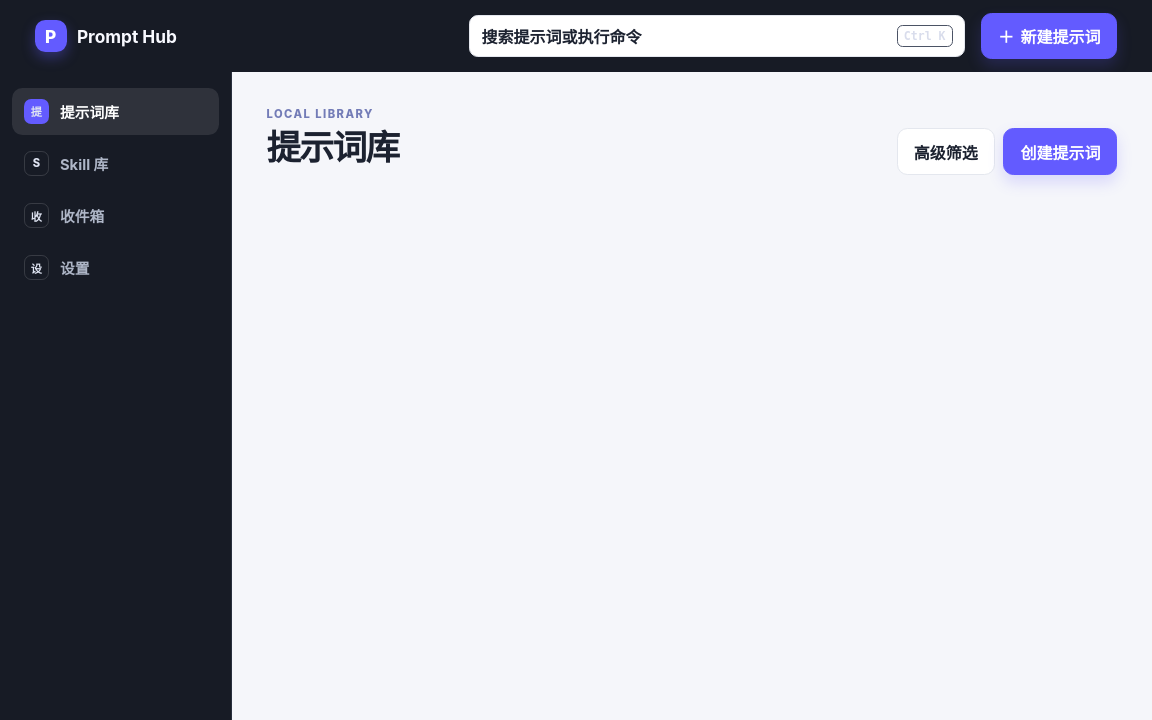
Test case: App › provides accessible primary navigation and a command palette
The width and height of the screenshot is (1152, 720).
Check: the link "P Prompt Hub" is shown, box [34,20,177,52]
Check: the navigation bar named "主导航" is shown, box [0,72,232,719]
Step 1. Click the button with aria-label "打开命令面板" → (562, 37), box [469,15,965,57]
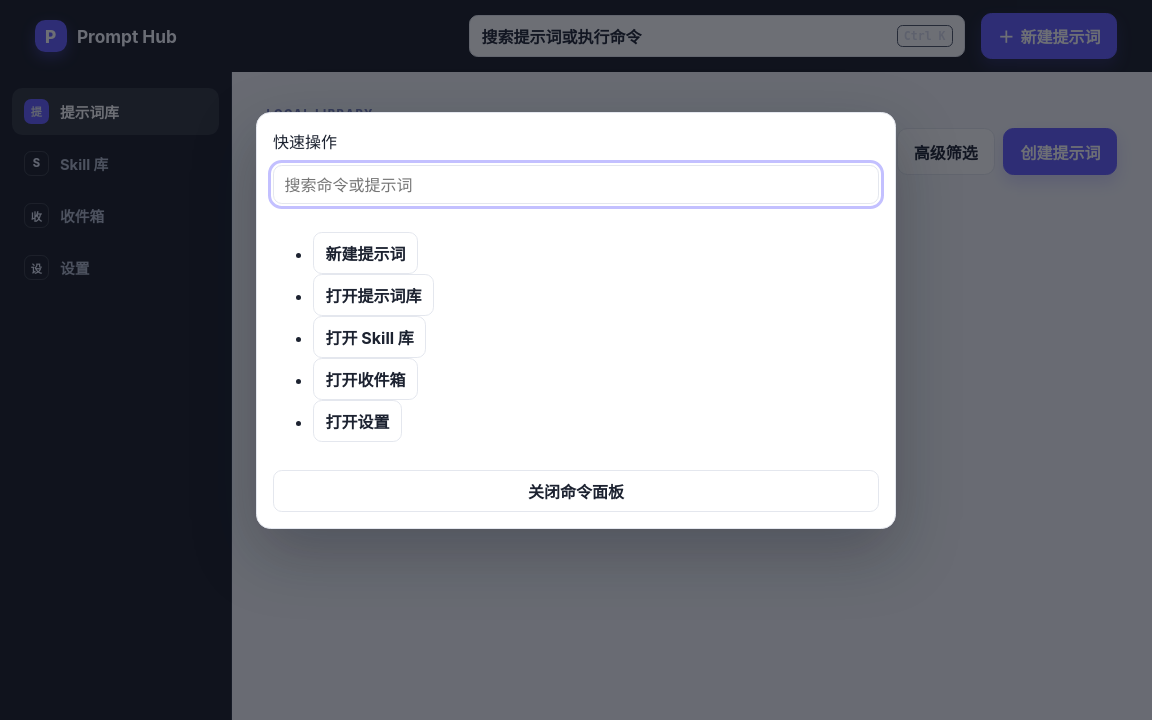
Check: the dialog "命令面板" is shown
